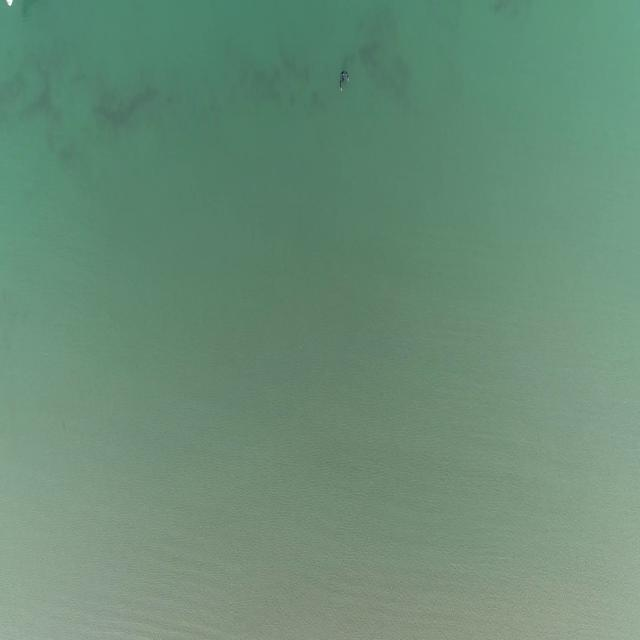person: (338, 70, 351, 90)
